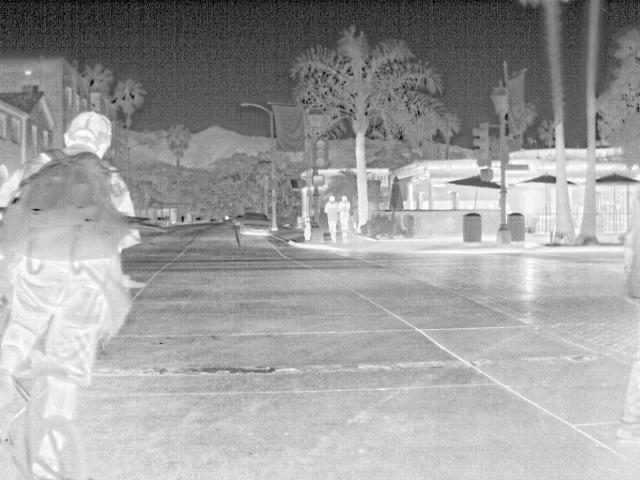car: (234, 210, 273, 238)
person: (0, 108, 140, 472), (335, 194, 351, 244), (323, 194, 338, 245)
